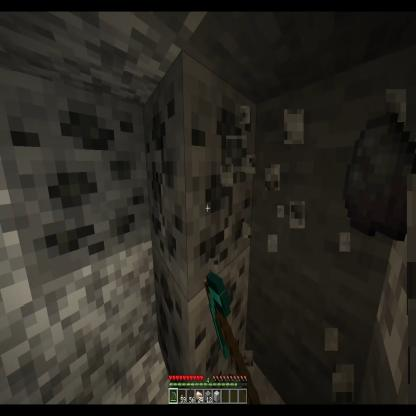coal ore: (0, 72, 144, 306), (142, 48, 258, 304), (151, 240, 257, 411)
